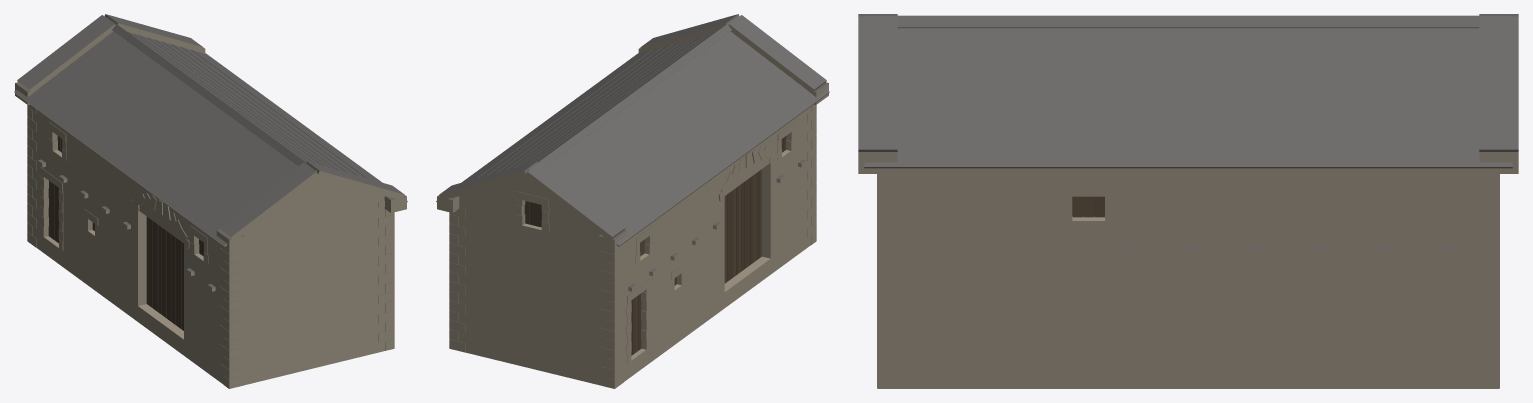
File: context.dales.barn_11.glb
3 views of the same model, side by side, from view 1: azimuth 30°, elevation 25°; view 2: azimuth 150°, elevation 25°; view 3: azimuth 270°, elevation 25° (orthographic). The views are drawn at different scales.
Visible parts, largest first — view 1: main__stone_a98, main__slate_666, main__paint_543, main__paint_554, main__paint_544; view 2: main__stone_a98, main__slate_666, main__paint_543, main__paint_554, main__paint_544; view 3: main__stone_a98, main__slate_666.
Part boxes in pixels (x1=…): main__stone_a98: x1=14, y1=23, x2=407, y2=388; main__slate_666: x1=14, y1=14, x2=406, y2=379; main__paint_543: x1=55, y1=185, x2=203, y2=330; main__paint_554: x1=48, y1=138, x2=172, y2=322; main__paint_544: x1=51, y1=183, x2=152, y2=307; main__stone_a98: x1=436, y1=23, x2=829, y2=388; main__slate_666: x1=437, y1=14, x2=829, y2=379; main__paint_543: x1=529, y1=136, x2=786, y2=355; main__paint_554: x1=640, y1=169, x2=761, y2=283; main__paint_544: x1=524, y1=173, x2=756, y2=355; main__stone_a98: x1=858, y1=27, x2=1518, y2=388; main__slate_666: x1=858, y1=14, x2=1518, y2=374.
Bounding box in the file's own units: 5.99 × 6.31 × 12.12.
